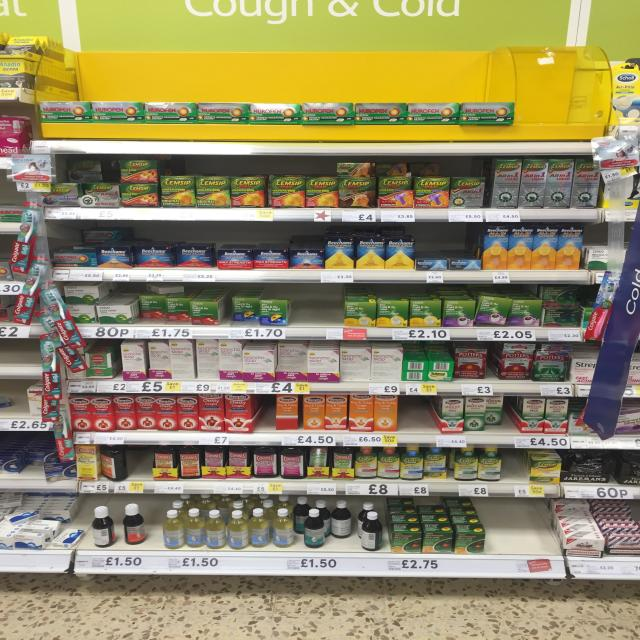unorganised: (292, 498, 383, 552), (1, 505, 87, 549), (1, 433, 73, 479), (91, 503, 147, 549), (139, 285, 192, 322), (465, 397, 511, 432), (542, 286, 581, 327), (456, 345, 498, 382), (472, 292, 512, 326), (227, 284, 258, 324), (101, 444, 130, 482), (403, 355, 454, 370), (309, 447, 330, 476), (401, 370, 428, 382)
